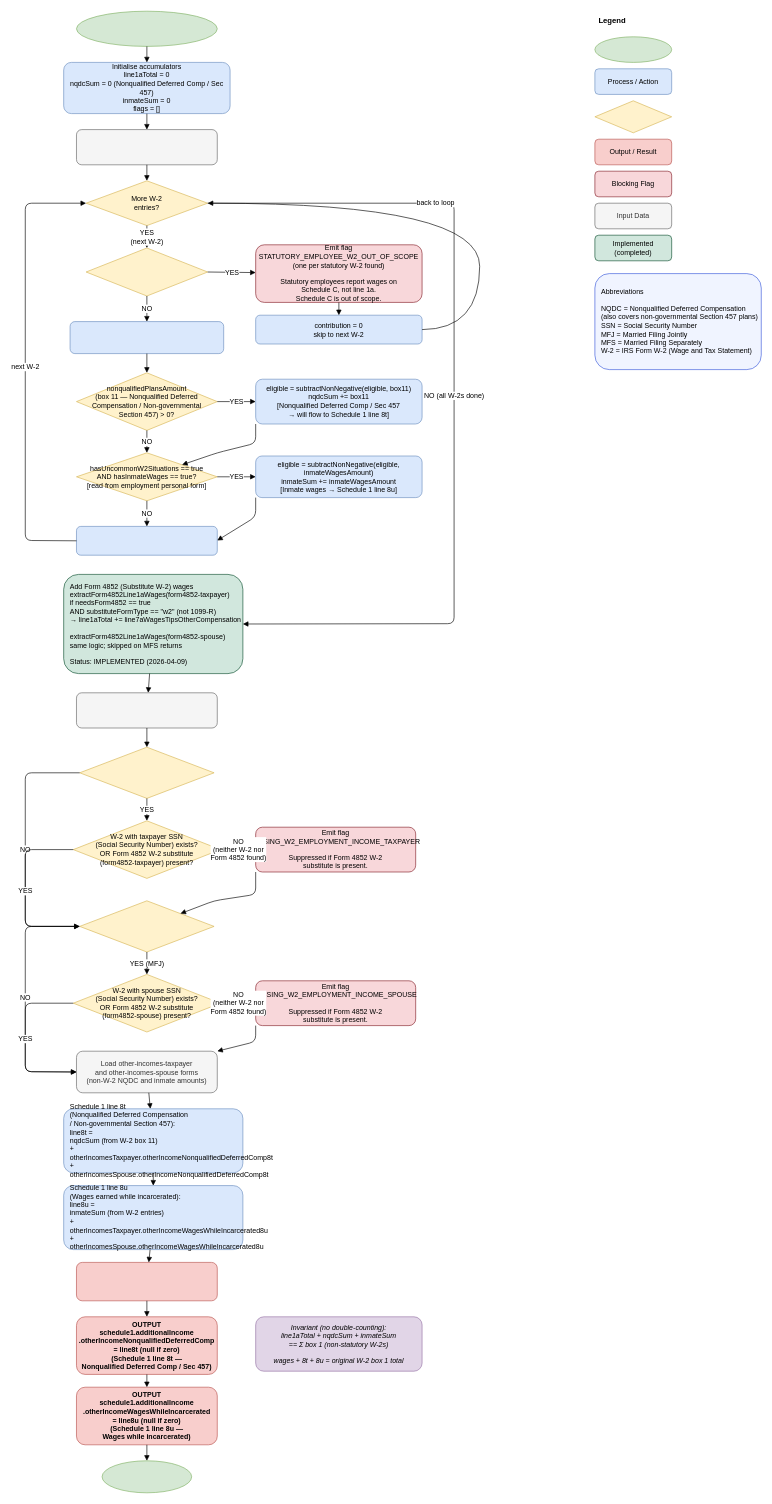
Some shapes in this 772 by 1504 pixel diagram are drawn without their labels. The centre of each missing label's shape, as x and y in pixels:
Decision: [633,116]
eligible = w2.wagesTipsOtherCompAmount (box 1 — wages, tips, other comp): [146,337]
END: [146,1476]
line1aTotal += max(0, eligible): [146,540]
Load all W-2 statement entries listEntriesWithData(uid, "w-2"): [146,147]
Load employment-income-taxpayer (and spouse if MFJ): [146,710]
OUTPUT form1040.income.wages = line1aTotal (Form 1040 line 1a): [146,1281]
Spouse (MFJ only): hasEmploymentIncome == true AND householdWork != true?: [146,926]
Start / End: [633,49]
START computeLine1aWages(): [146,28]
Taxpayer: hasEmploymentIncome == true AND householdWork != true?: [146,772]
W-2 box 13 Statutory employee flag == true?: [146,271]
